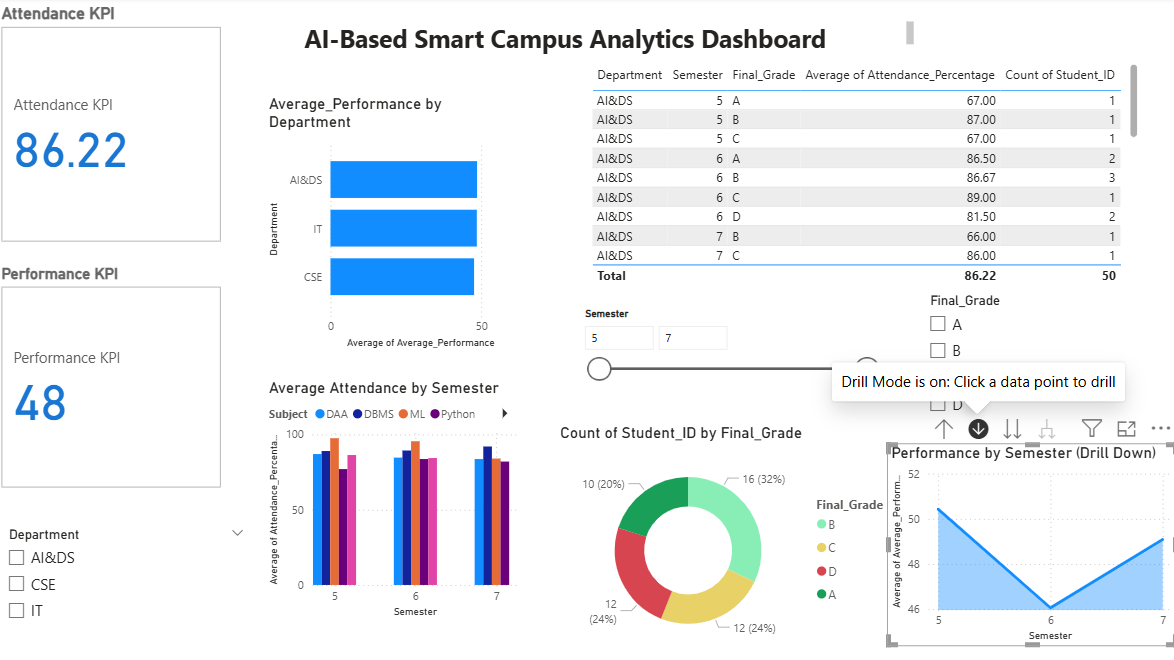

What the dashboard file says about the page in this screenshot:
{"tool":"powerbi","page":{"name":"Page 1","canvas":[1280,720],"ordinal":0},"visuals":[{"type":"cardVisual","title":"Attendance KPI","fields":{"Data":["Avg(5 student_performance.Attendance_Percentage)"]},"box":[0,7.1,248.6,264.3],"z":0},{"type":"cardVisual","title":"Performance KPI","fields":{"Data":["Avg(5 student_performance.Average_Performance)"]},"box":[0,290,248,248],"z":1000},{"type":"slicer","fields":{"Values":["5 student_performance.Department"]},"box":[0,570,280,150],"z":2000},{"type":"slicer","fields":{"Values":["5 student_performance.Semester"]},"box":[625.7,332.9,340,104.3],"z":3000},{"type":"clusteredBarChart","title":"Average_Performance by Department","fields":{"Category":["5 student_performance.Department"],"Y":["Avg(5 student_performance.Average_Performance)"]},"box":[290,105.7,280,280],"z":4000},{"type":"clusteredColumnChart","title":"Average Attendance by Semester","fields":{"Category":["5 student_performance.Semester"],"Y":["Avg(5 student_performance.Attendance_Percentage)"],"Series":["5 student_performance.Subject"]},"box":[290,414.3,280,264.3],"z":5000},{"type":"tableEx","fields":{"Values":["5 student_performance.Department","5 student_performance.Semester","5 student_performance.Final_Grade","Avg(5 student_performance.Attendance_Percentage)","CountNonNull(5 student_performance.Student_ID)"]},"box":[640,67.1,602.9,248.6],"z":6000},{"type":"donutChart","fields":{"Category":["5 student_performance.Final_Grade"],"Y":["CountNonNull(5 student_performance.Student_ID)"]},"box":[605.7,462.9,378.6,257.1],"z":7000},{"type":"slicer","fields":{"Values":["5 student_performance.Final_Grade"]},"box":[1000,315.7,280,147.1],"z":8000},{"type":"areaChart","title":"Performance by Semester (Drill Down)","fields":{"Category":["5 student_performance.Department","5 student_performance.Semester","5 student_performance.Student_ID"],"Y":["Avg(5 student_performance.Average_Performance)"]},"box":[965.7,484.3,314.3,220],"z":9000},{"type":"textbox","box":[328.6,21.4,671.4,45.7],"z":11000}]}

Visuals, with their boxes in screenshot pixels (x1, y1, x2, y2):
"Attendance KPI" cardVisual: rect(95, 0, 312, 218)
"Performance KPI" cardVisual: rect(95, 235, 311, 451)
slicer - 5 student_performance.Department: rect(95, 479, 339, 610)
slicer - 5 student_performance.Semester: rect(641, 272, 937, 363)
"Average_Performance by Department" clusteredBarChart: rect(348, 74, 592, 318)
"Average Attendance by Semester" clusteredColumnChart: rect(348, 343, 592, 574)
tableEx - 5 student_performance.Department x 5 student_performance.Semester: rect(653, 40, 1173, 257)
donutChart - 5 student_performance.Final_Grade x CountNonNull(5 student_performance.Student_ID): rect(623, 386, 954, 610)
slicer - 5 student_performance.Final_Grade: rect(967, 257, 1173, 385)
"Performance by Semester (Drill Down)" areaChart: rect(937, 404, 1173, 596)
textbox: rect(381, 0, 967, 40)
